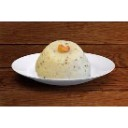venpongal: (37, 41, 93, 77)
